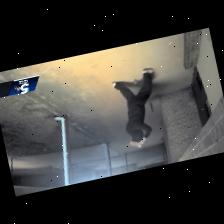person: (112, 68, 153, 146)
